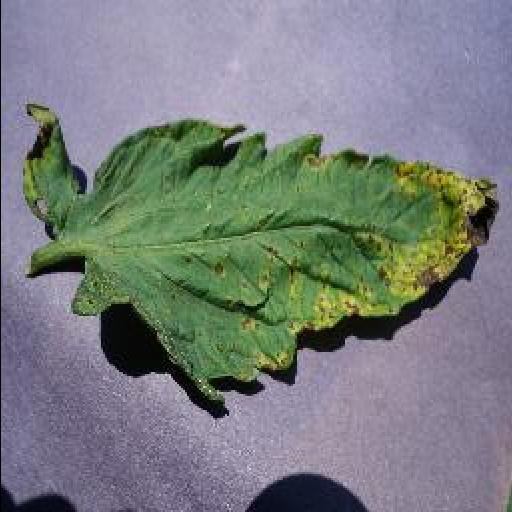disease_tomato: (18, 107, 500, 400)
